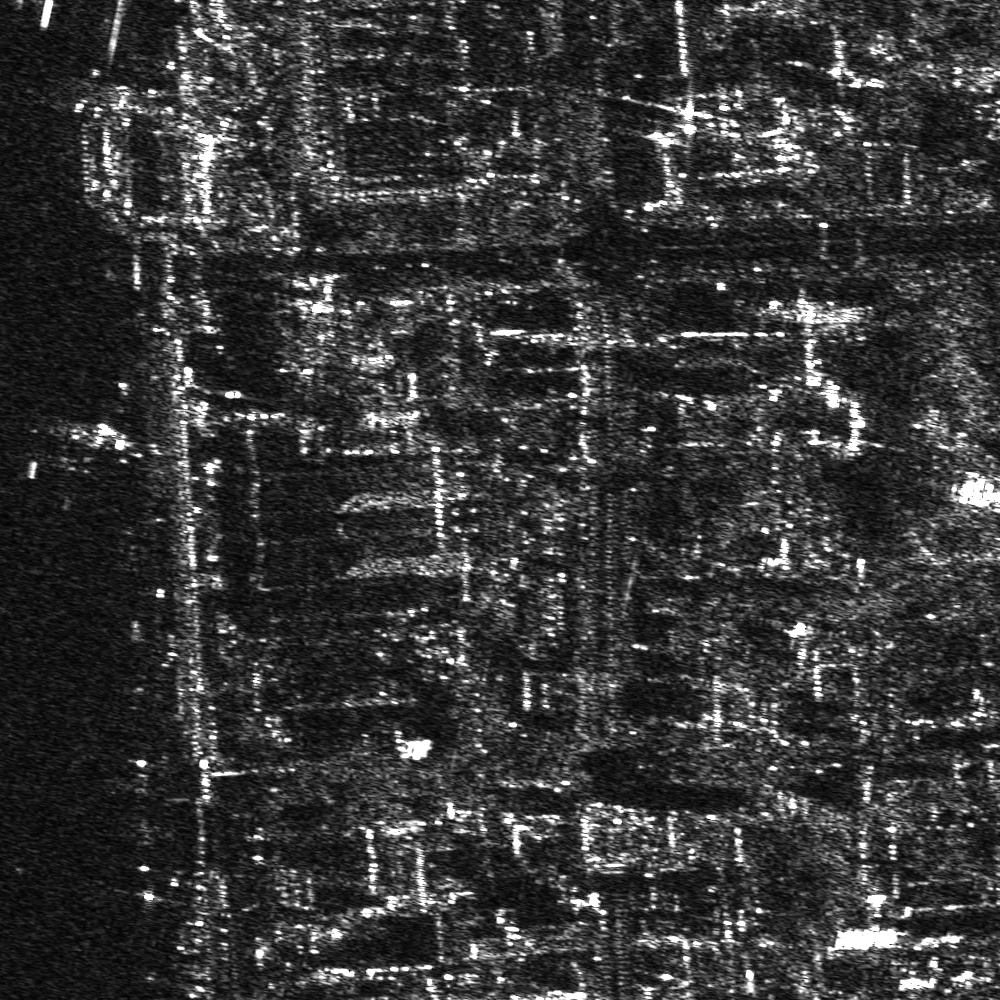A220: (17, 412, 156, 482)
